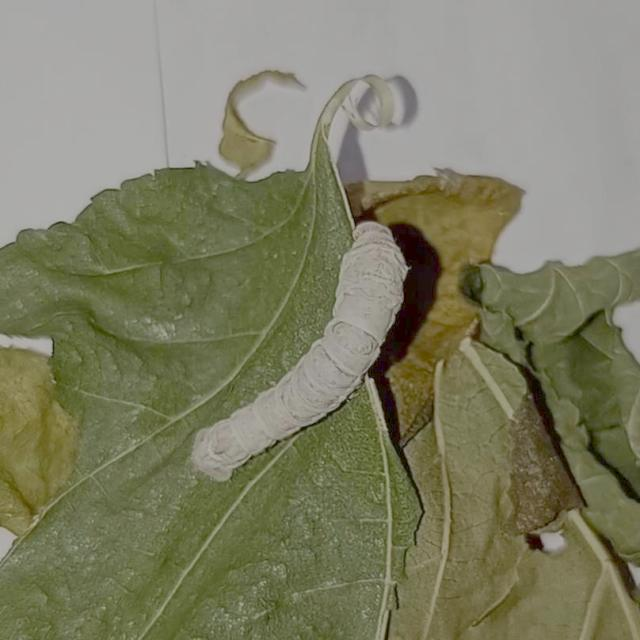Healthy: (163, 200, 435, 510)
